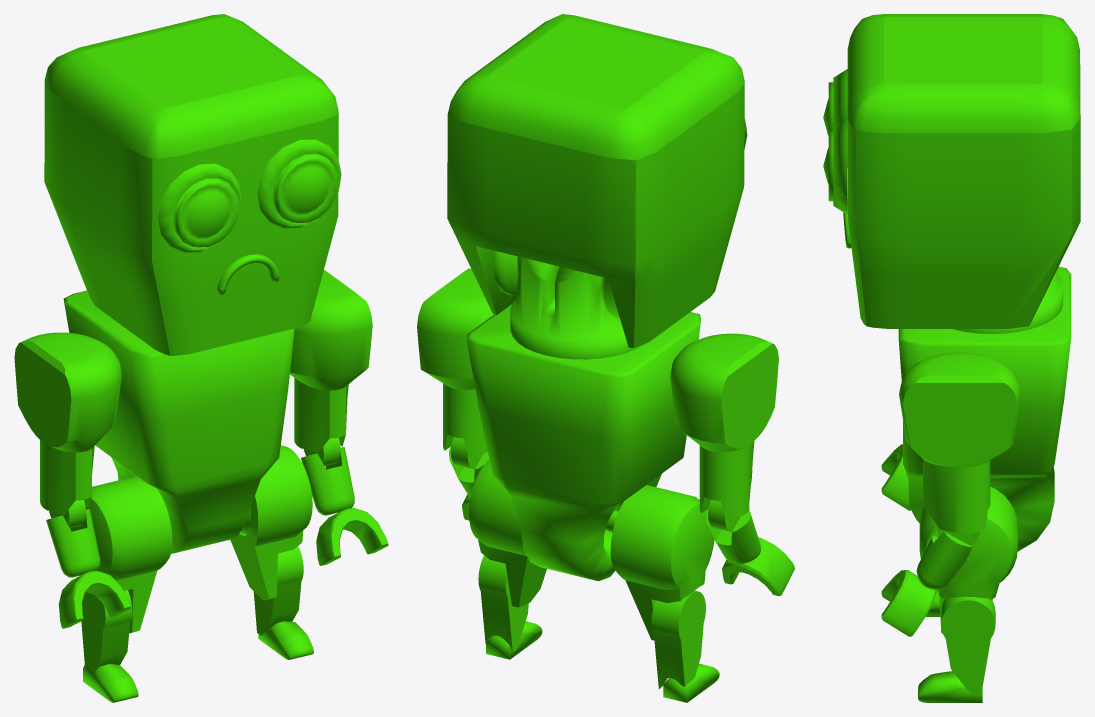
The model's file is brokenrobot.fbx.
The picture shows the model from 3 angles, left to right: view 1: azimuth 30°, elevation 25°; view 2: azimuth 150°, elevation 25°; view 3: azimuth 270°, elevation 25°; orthographic projection.
Parts seen in each view (by area): view 1: head, body, arm_r, arm_l, leg_r, leg_l; view 2: head, body, arm_r, leg_r, arm_l, leg_l; view 3: head, arm_l, body, leg_l, arm_r.
Boxes of the visible parts, x1,y1,x2,y2 form: head: (44,14,341,355); body: (63,290,294,553); arm_r: (14,332,130,628); arm_l: (290,270,388,565); leg_r: (70,476,172,702); leg_l: (230,445,313,659); head: (447,14,747,347); body: (466,251,700,581); arm_r: (670,333,794,595); leg_r: (606,485,719,702); arm_l: (417,268,493,520); leg_l: (469,459,546,659); head: (823,14,1080,328); arm_l: (881,352,1020,636); body: (898,266,1071,551); leg_l: (918,486,1017,702); arm_r: (881,444,910,510).
Bounding box in the file's own units: 53.4 × 97.78 × 37.82.
